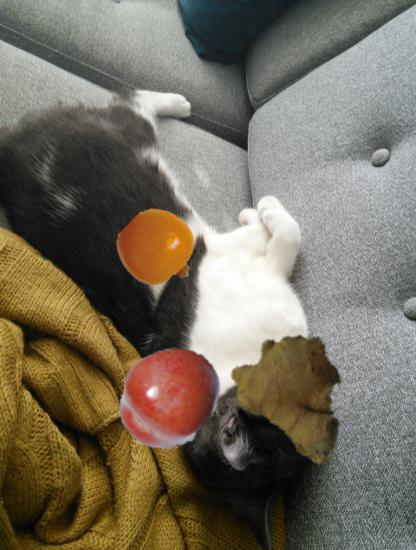Cherry: (113, 342, 223, 452)
Ginger: (224, 333, 363, 472)
Physalis: (119, 210, 200, 291)
